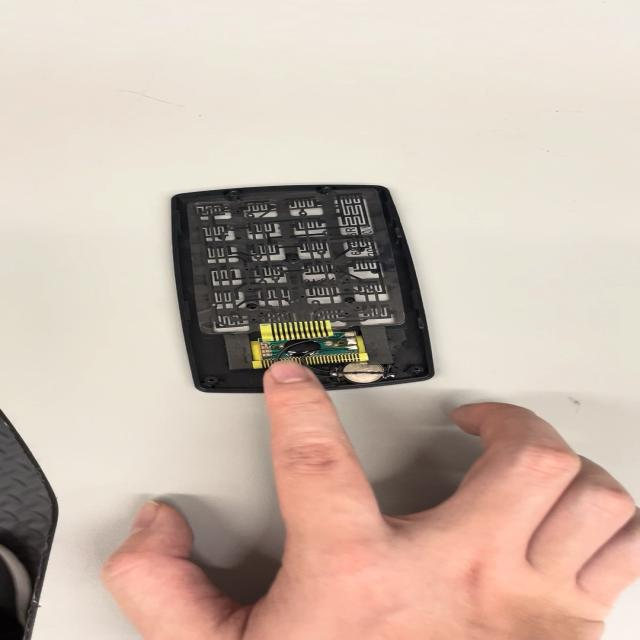front_panel: (142, 175, 446, 397)
